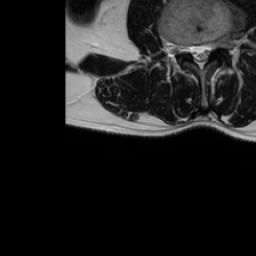CCS_normal: (196, 34, 204, 76)
LFS_normal: (213, 28, 222, 57)
LLS_normal: (204, 33, 213, 65)
RFS_normal: (179, 34, 188, 62)
RLS_normal: (188, 35, 196, 63)
